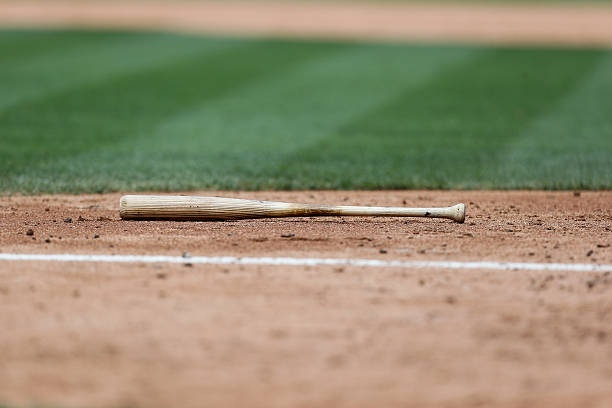bita: (117, 193, 464, 217)
